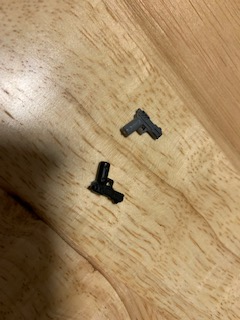pistol: (89, 159, 127, 207), (119, 108, 163, 146)
